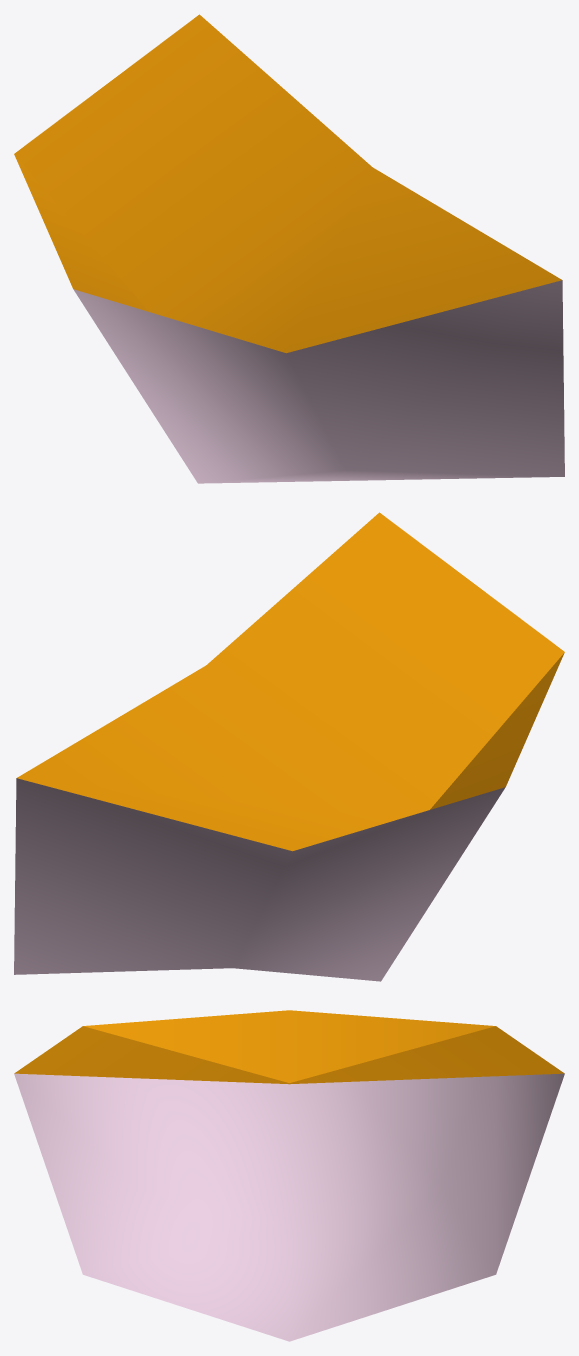
Rendered from babyHeadJaw.fbx.
The picture shows the model from 3 angles, top to bottom: view 1: azimuth 30°, elevation 25°; view 2: azimuth 150°, elevation 25°; view 3: azimuth 270°, elevation 25°; orthographic projection. The views are drawn at different scales.
Parts seen in each view (by area): view 1: babyHeadJaw; view 2: babyHeadJaw; view 3: babyHeadJaw.
Boxes of the visible parts, x1,y1,x2,y2 form: babyHeadJaw: (14, 14, 564, 483); babyHeadJaw: (14, 512, 564, 981); babyHeadJaw: (14, 1010, 564, 1341).
Bounding box in the file's own units: 117 × 97.3 × 199.
